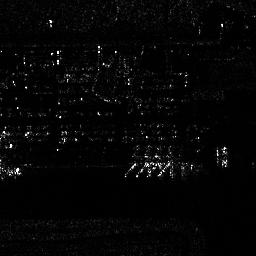ship: (221, 145, 228, 168)
